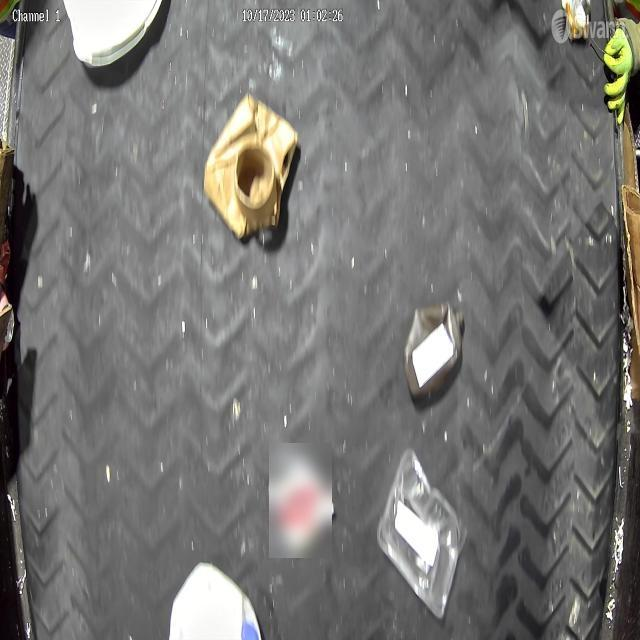non_white_jug: (404, 300, 464, 398)
